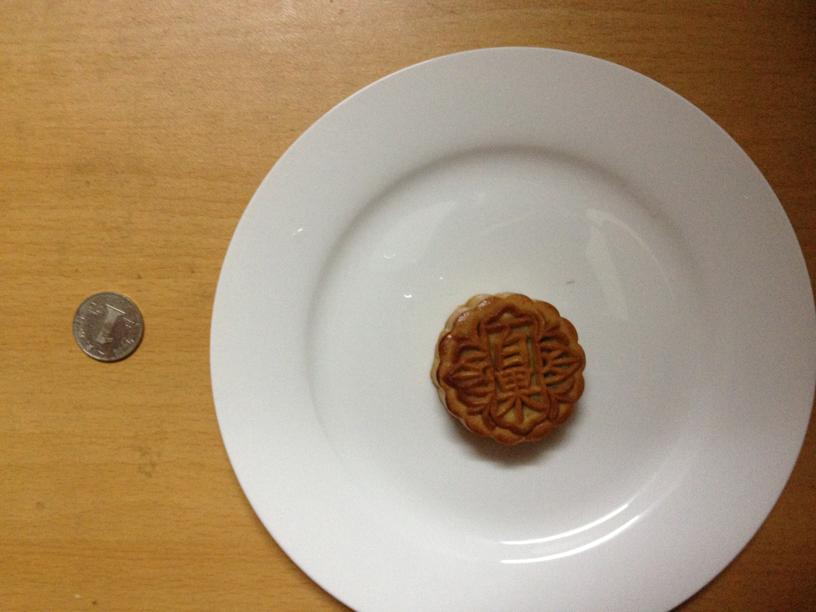coin: (71, 291, 144, 362)
mooncake: (433, 293, 586, 446)
